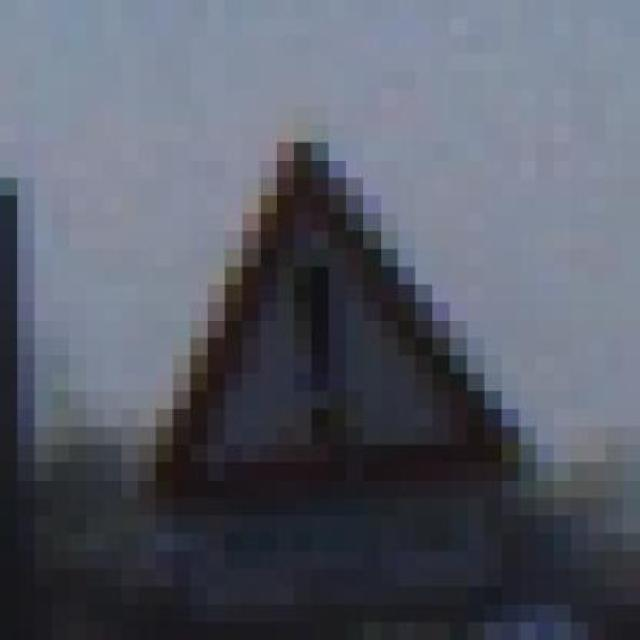Attention Please-: (115, 119, 530, 547)
